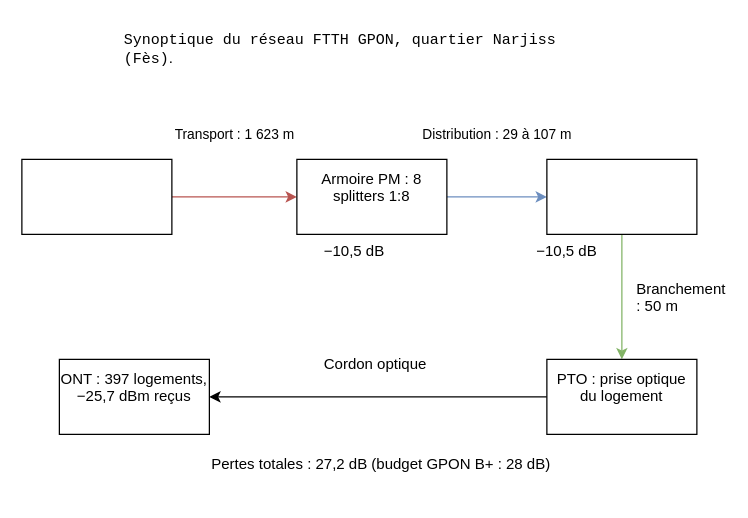
This 748x518 diagram has some shape labels left out. Each missing label, with the centre of its shape:
NRO : OLT, 8 ports PON, +1,5 dBm: (x=96, y=196)
PBO : 63 splitters 1:8: (x=621, y=196)
